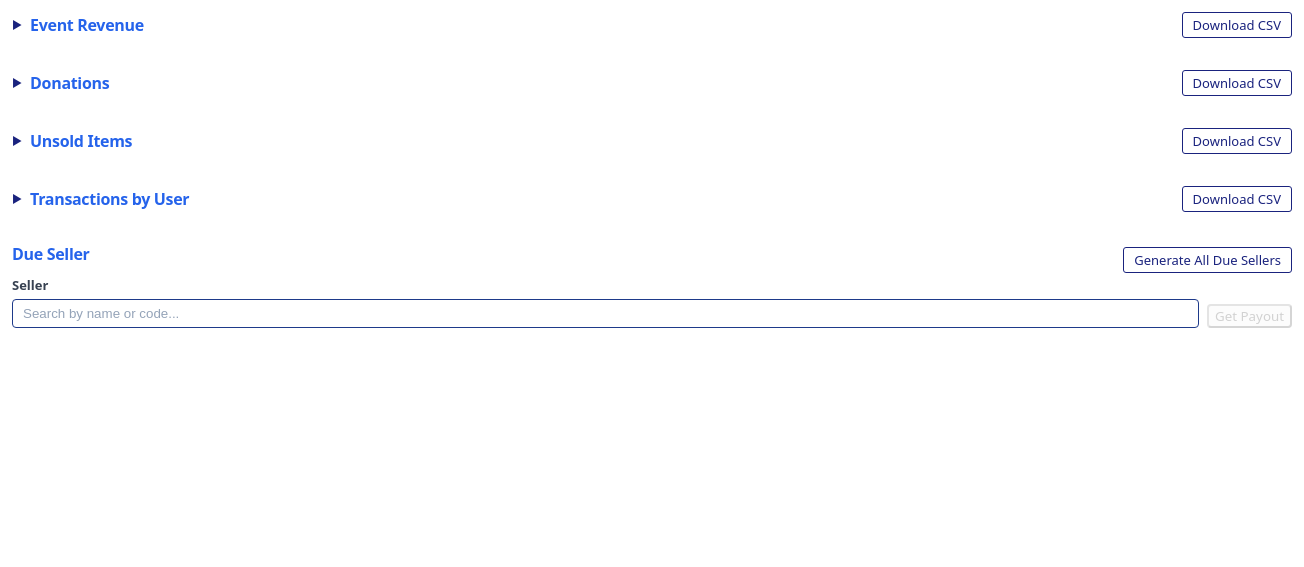
it: ReportsPage — collapsible sections › expands Event Revenue section when header is clicked
expect the text "MYSL Total" is not shown: met
Click the heading "Event Revenue": (87, 25) [30,15,144,35]
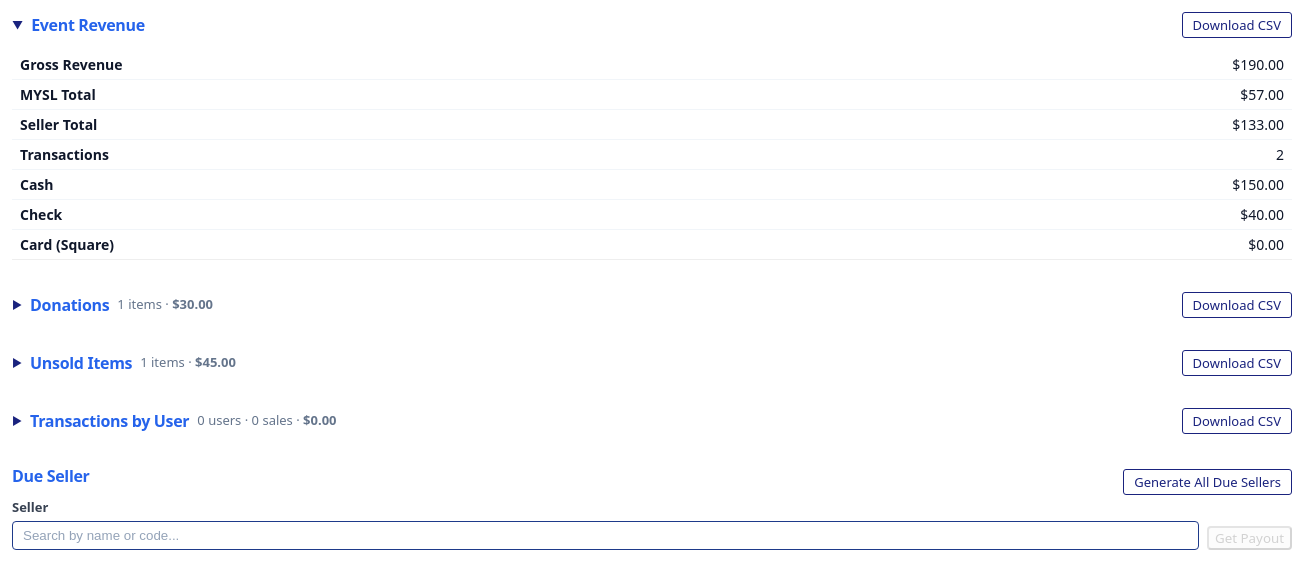
expect the text "MYSL Total" is shown: met, box [12,80,846,110]
